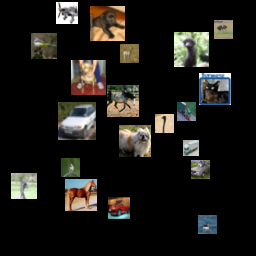airplane: (56, 2, 78, 24)
automobile: (58, 102, 96, 140), (108, 197, 130, 219), (191, 160, 210, 179)
bird: (174, 32, 209, 67), (11, 173, 37, 199), (31, 33, 57, 59), (155, 114, 174, 133), (214, 20, 233, 39), (198, 215, 217, 234), (61, 158, 80, 177)
cat: (199, 73, 231, 105)
deer: (120, 44, 139, 63)
dog: (71, 60, 106, 95), (90, 6, 125, 41), (119, 125, 151, 157)
